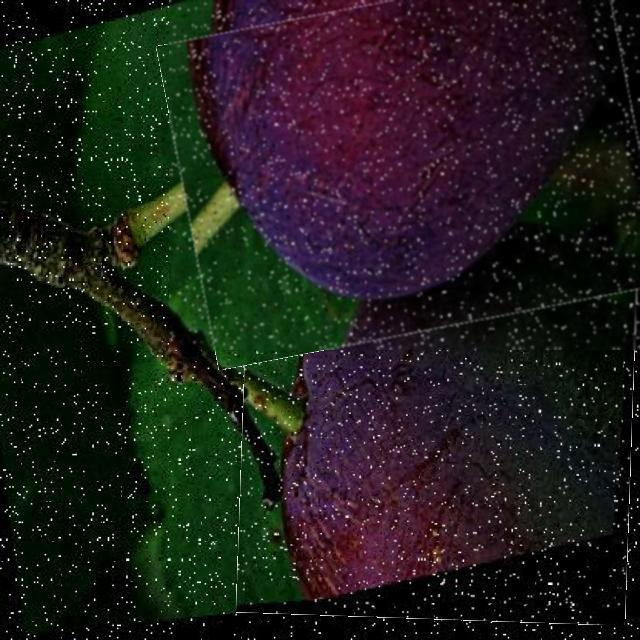plum: (169, 0, 640, 350), (240, 209, 635, 622)
